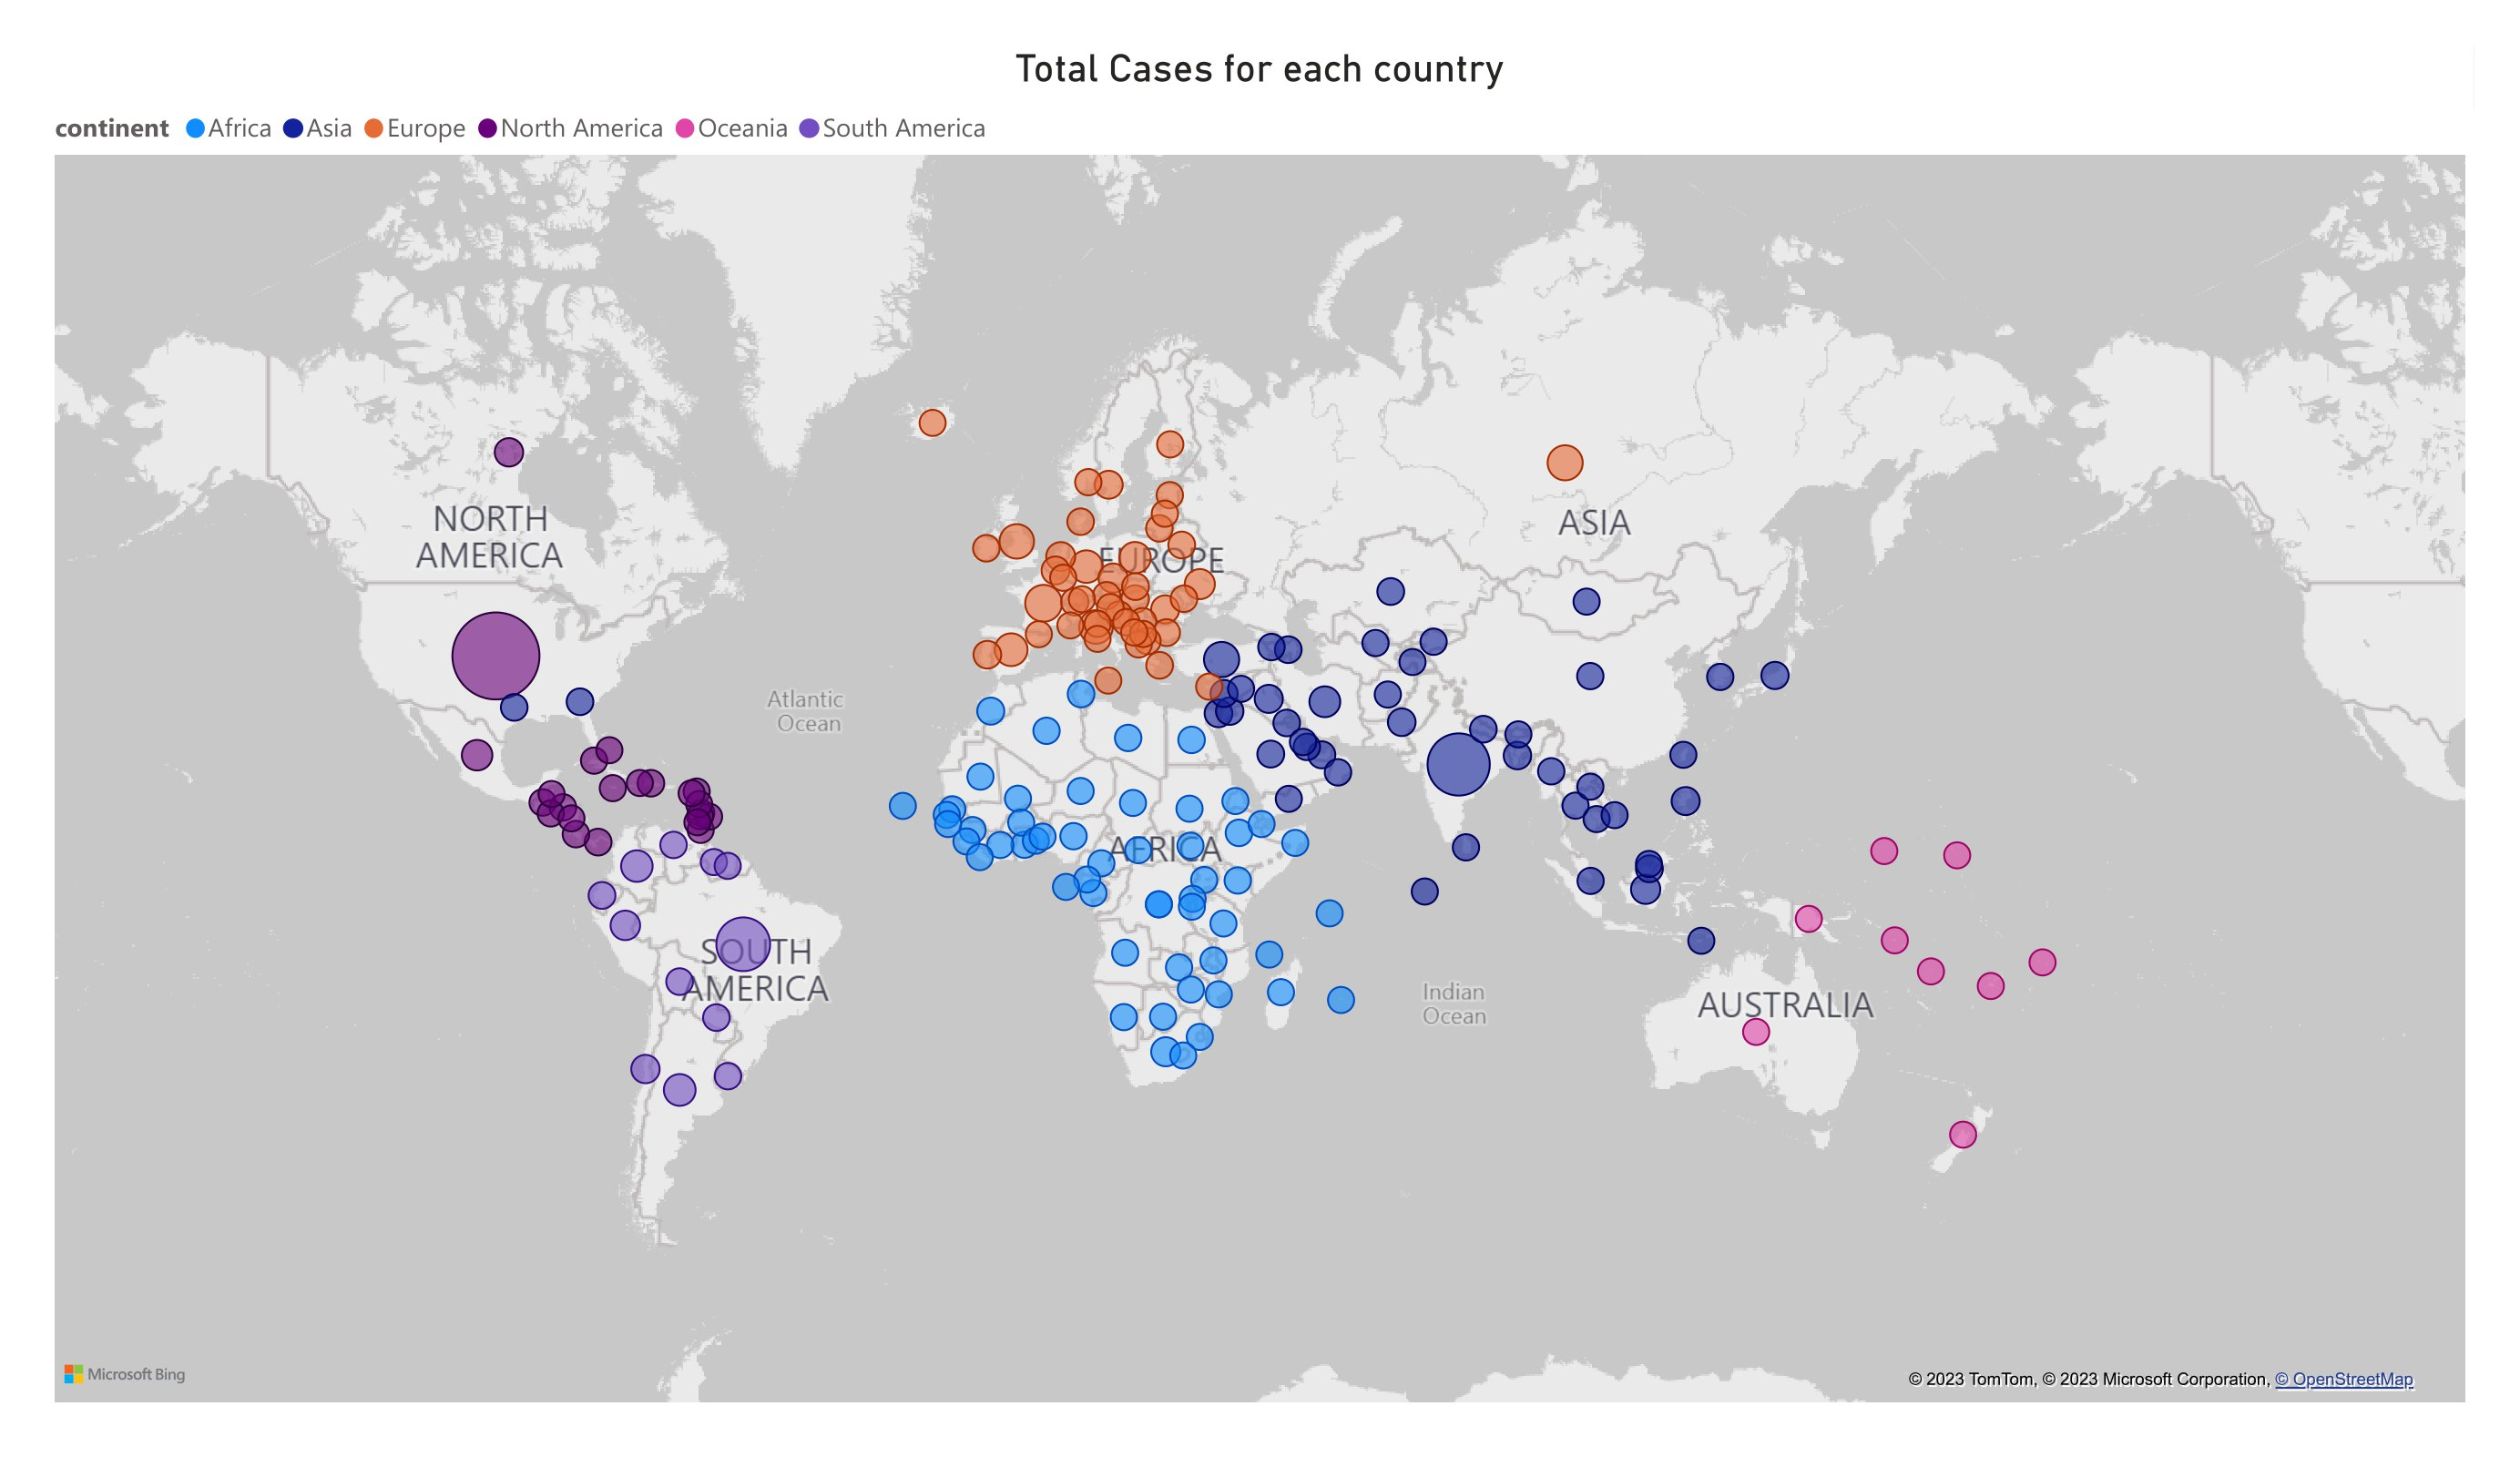

Layout of this report page (visuals, bound fields, positions):
{"tool":"powerbi","page":{"name":"Map","canvas":[1280,720],"ordinal":1},"visuals":[{"type":"map","title":"Total Cases for each country","fields":{"Size":["Sum(covid_location.total_case)"],"Category":["covid_location.location"],"Series":["covid_location.continent"]},"box":[0,0,1279.8,720],"z":0}]}

Visuals, with their boxes on the page's 1280x720 design canvas (x1, y1, x2, y2). These are canvas units, not pixel positions in the 2520x1457 screenshot, which may show the page scaled, cropped or inside an application window:
"Total Cases for each country" map: [x1=0, y1=0, x2=1280, y2=720]
